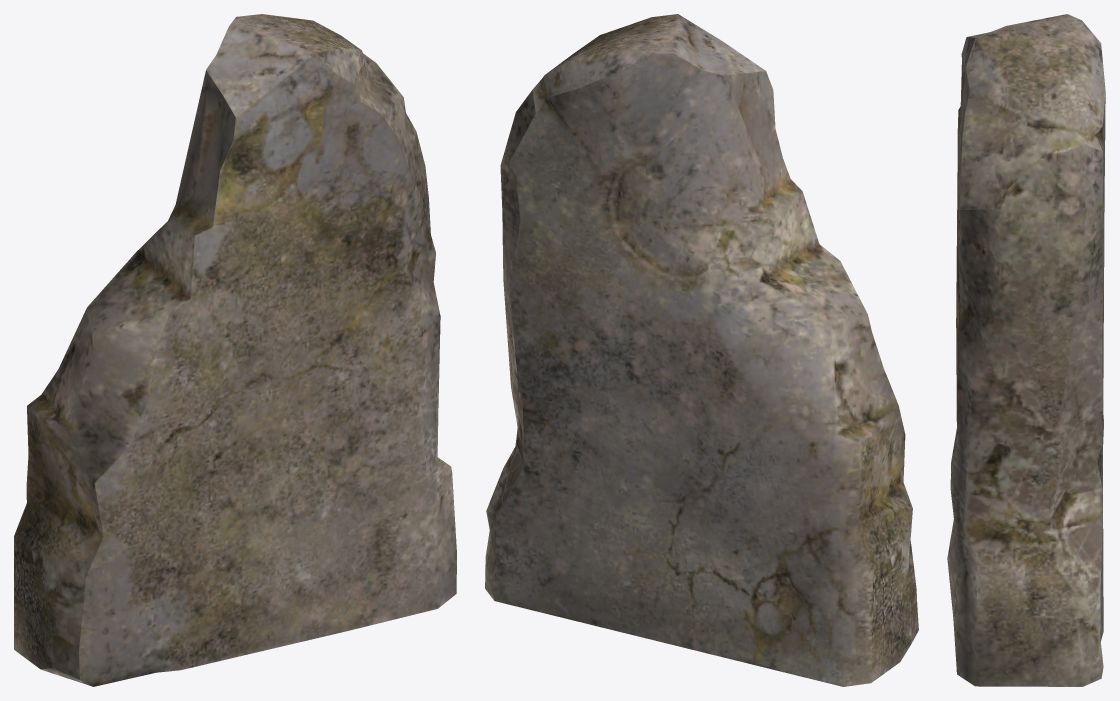
The model's file is SM_TombStone03.FBX.
The picture shows the model from 3 angles, left to right: view 1: azimuth 30°, elevation 25°; view 2: azimuth 150°, elevation 25°; view 3: azimuth 270°, elevation 25°; orthographic projection.
Parts seen in each view (by area): view 1: SM_TombStone03; view 2: SM_TombStone03; view 3: SM_TombStone03.
Part boxes in pixels (bbox=[...]): SM_TombStone03: bbox=[14, 14, 456, 686]; SM_TombStone03: bbox=[485, 14, 918, 686]; SM_TombStone03: bbox=[947, 14, 1105, 686].
Size of the model in its own units: 99.56 by 34.34 by 140.
